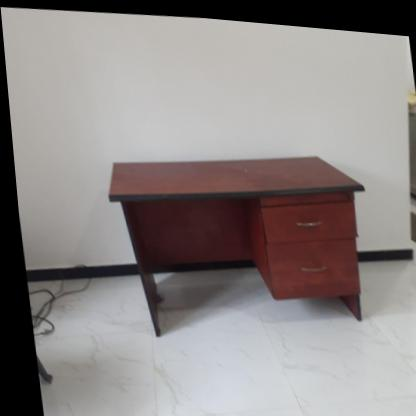Table: (91, 128, 392, 364)
